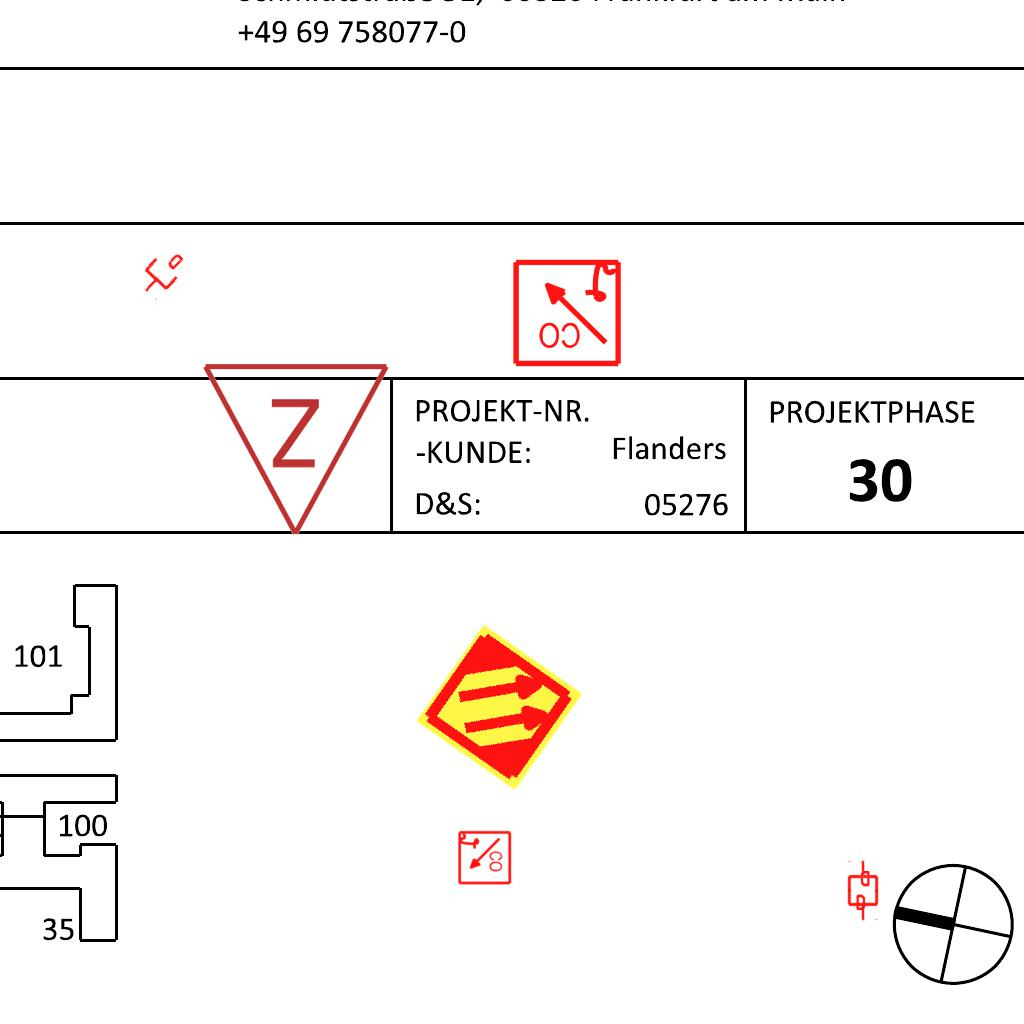ASR_Ansaugrauchmelder: (412, 620, 587, 795)
Datenanschluss_einfach: (132, 243, 192, 303), (846, 860, 880, 910), (846, 871, 880, 921)
ROA_Rauchmelder_optisch_mit_Signalgeber_(Sockelsirene): (510, 255, 623, 368), (456, 830, 512, 886)
Zimmersignalleuchte: (200, 349, 396, 549)
